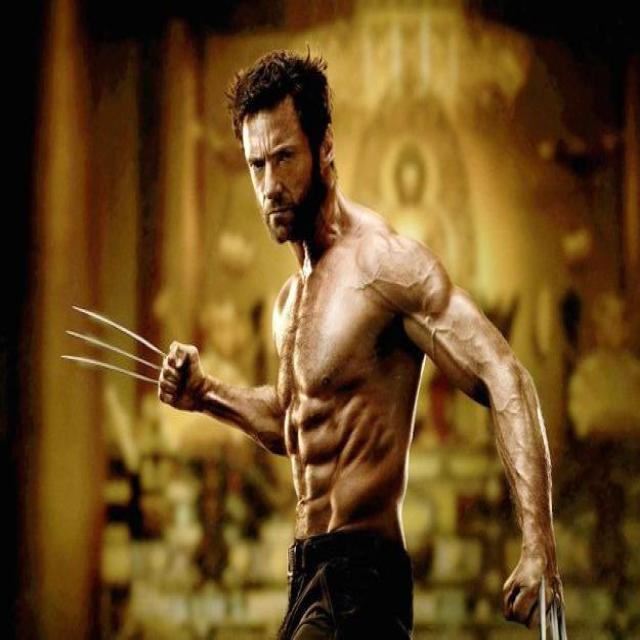human: (58, 49, 577, 640)
